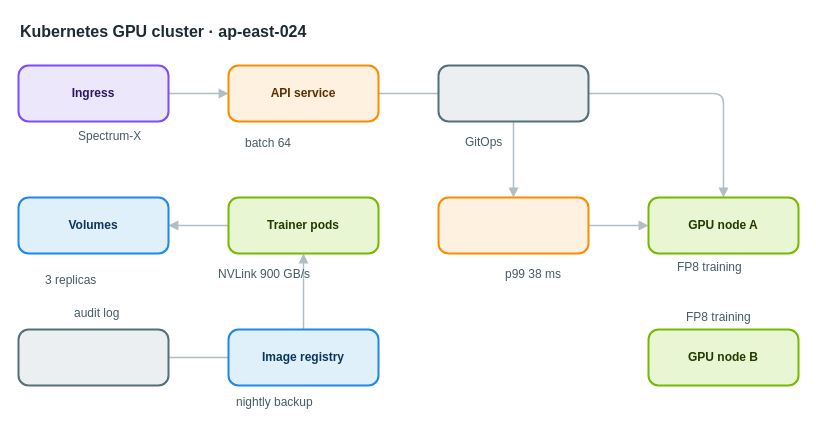
Image size: 816x427. Some labels were removed from this diagram. The box of each missing label's shape, as (x1, y1, x2, y2) in pixels:
GPU operator: (437, 64, 589, 122)
Inference pods: (437, 196, 589, 254)
Prometheus: (17, 328, 169, 386)
